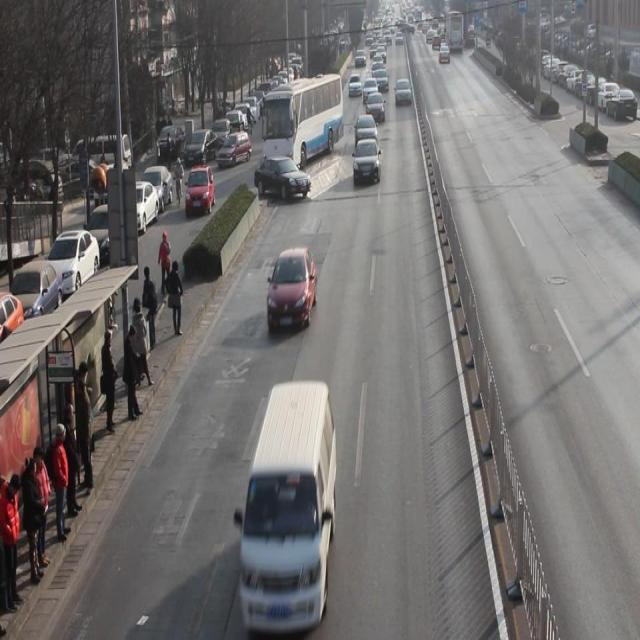car: (268, 247, 318, 331), (254, 153, 312, 201), (354, 139, 382, 186), (355, 114, 379, 153), (365, 92, 386, 124)
truck: (238, 382, 337, 616)
van: (261, 74, 343, 170)
